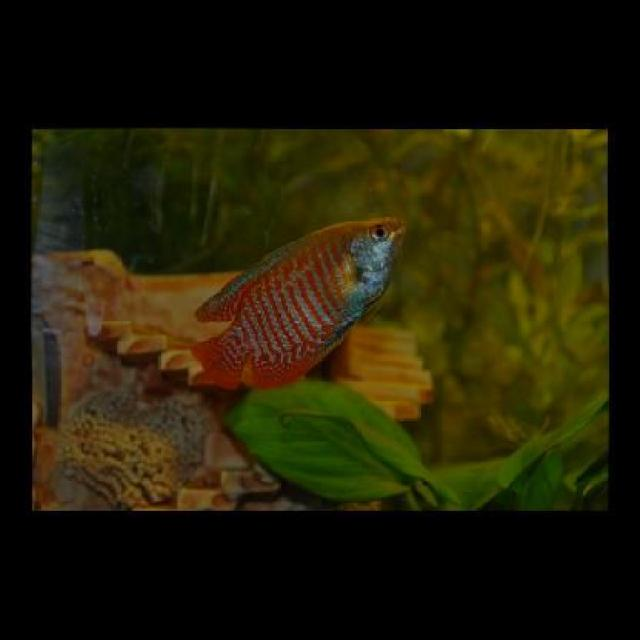Gourami: (188, 213, 412, 393)
